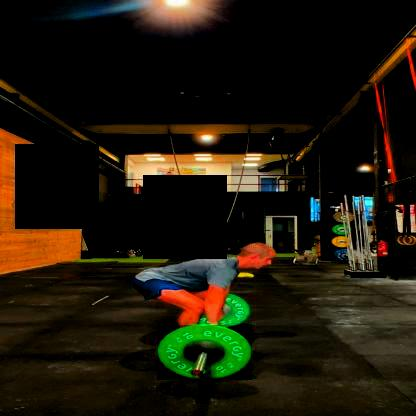barbell: (157, 326, 252, 380)
